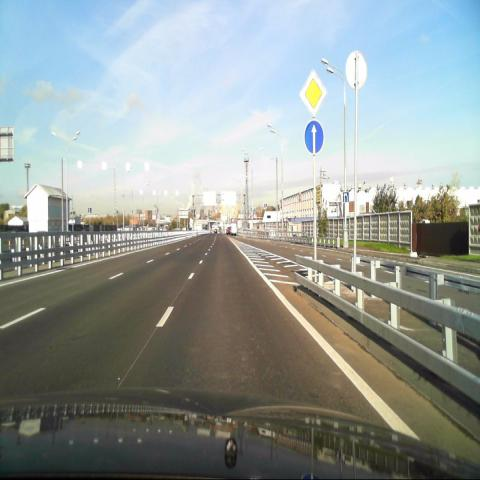4_1_1: (301, 118, 327, 157)
